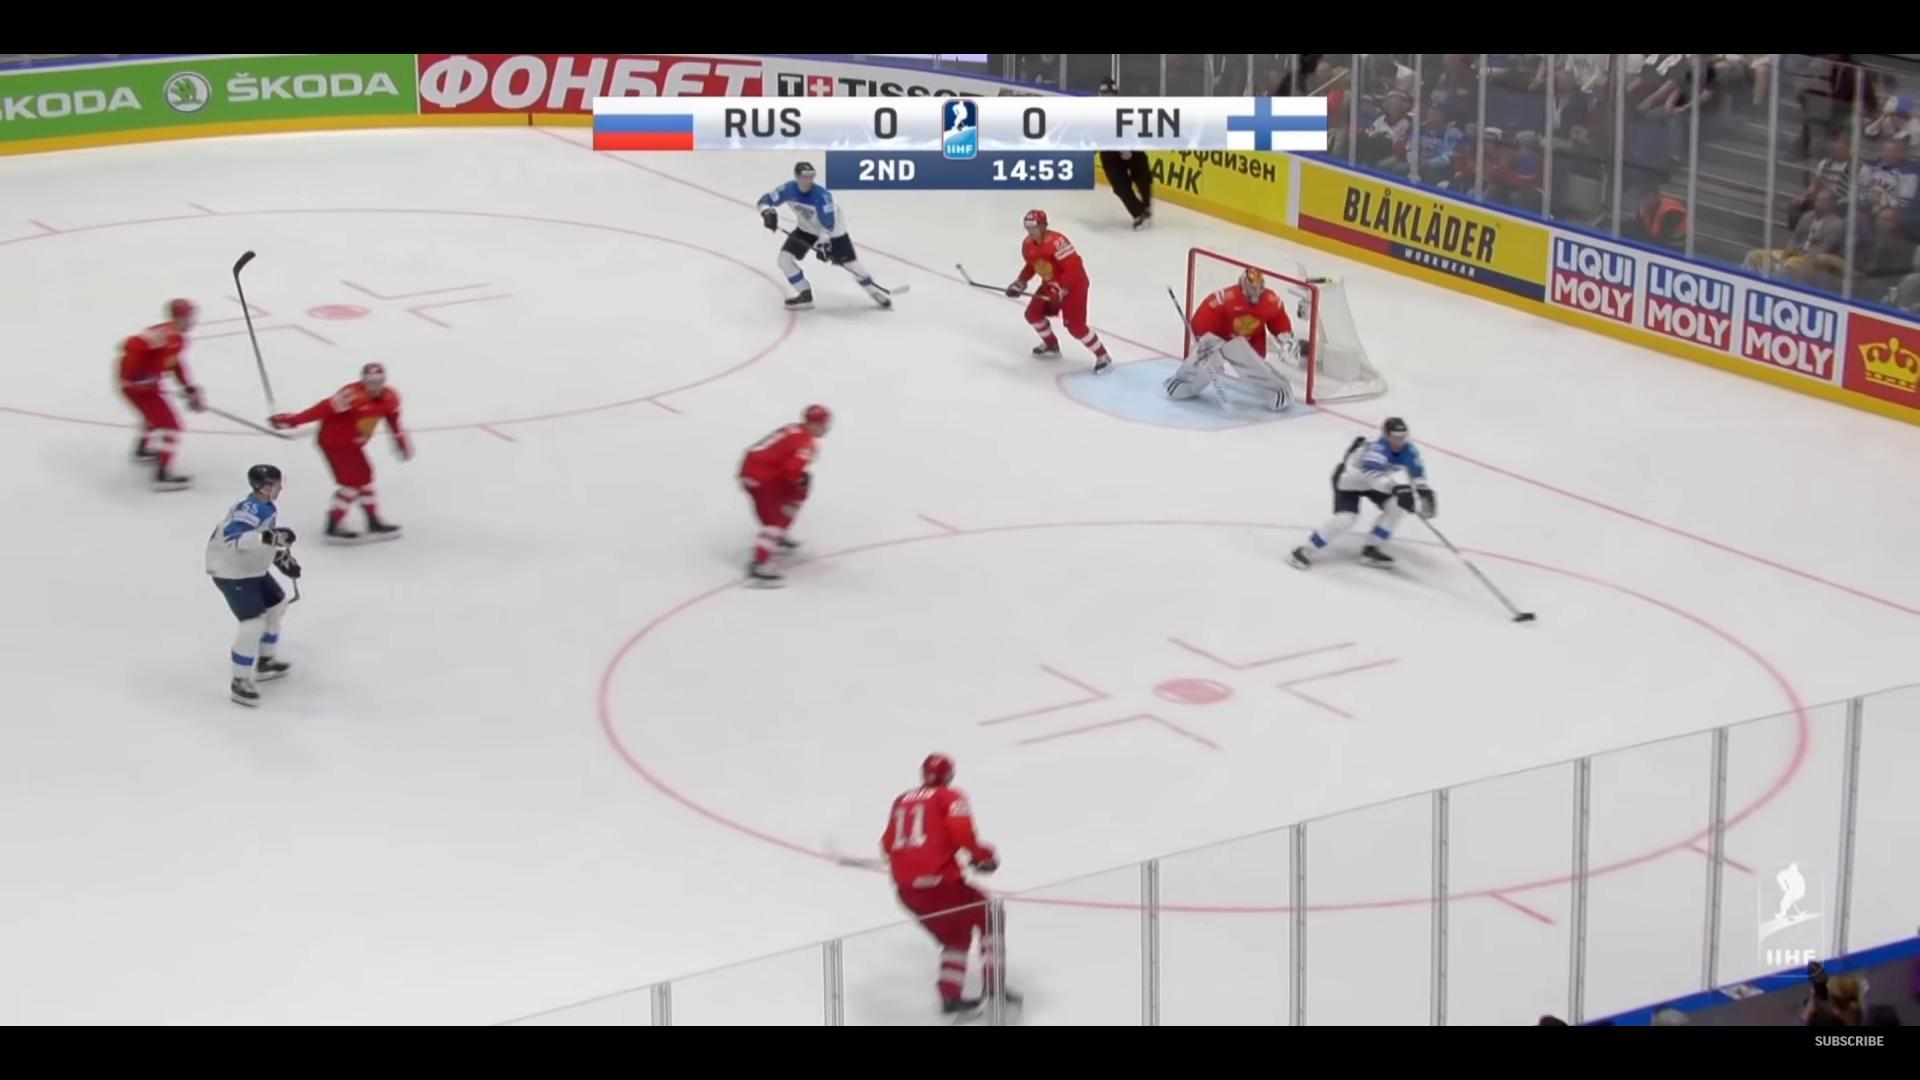puck: (1510, 616, 1522, 622)
